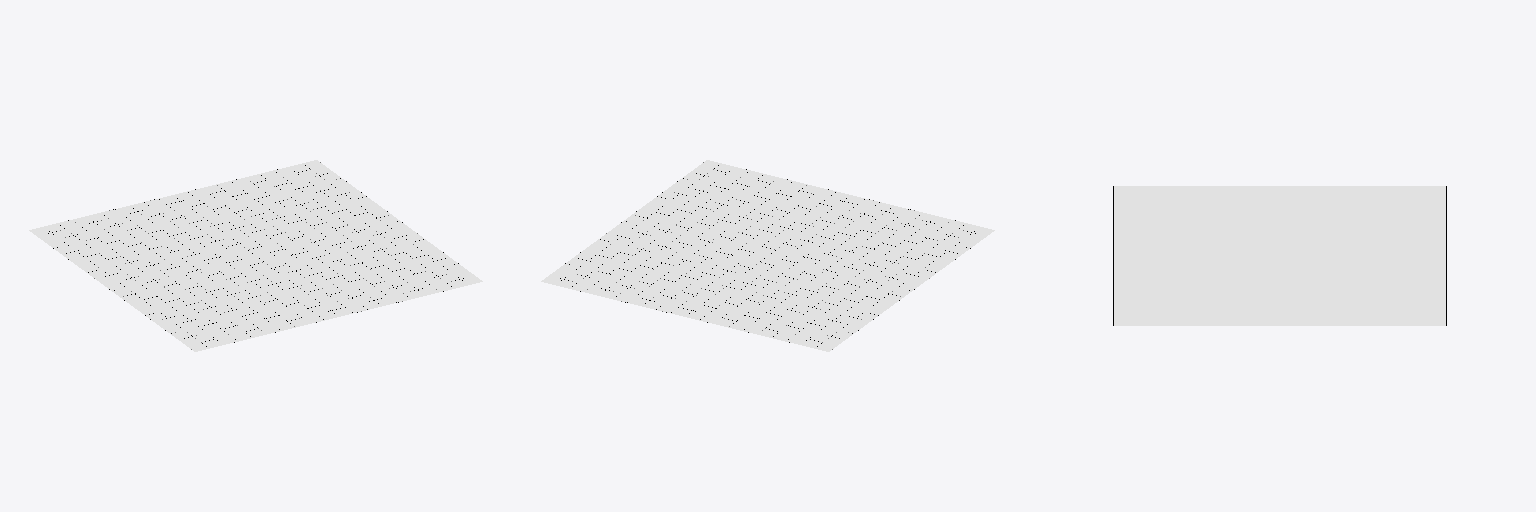
The picture shows the model from 3 angles: view 1: azimuth 30°, elevation 25°; view 2: azimuth 150°, elevation 25°; view 3: azimuth 270°, elevation 25°; orthographic projection.
Visible parts, largest first — view 1: 平面; view 2: 平面; view 3: 平面.
Boxes of the visible parts, box(x1,y1,x2,y2) form: 平面: box(29, 160, 482, 351); 平面: box(541, 160, 994, 351); 平面: box(1113, 186, 1446, 325).
Size of the model in its own units: 20 by 0 by 20.
1 materials, 1 textured.